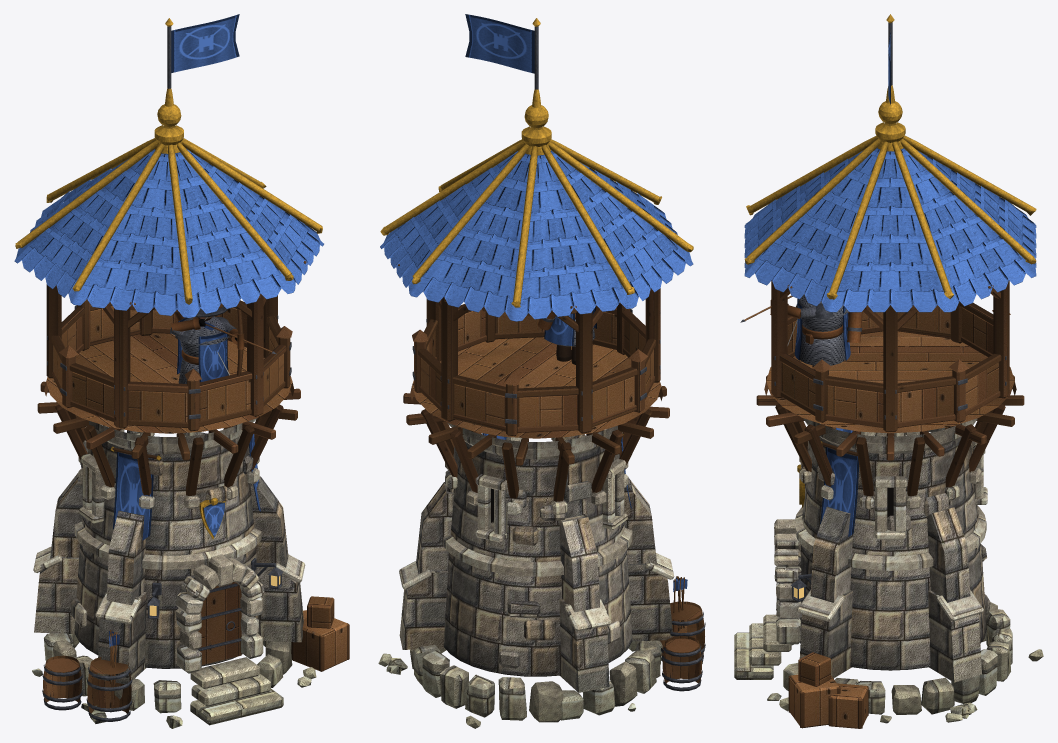
Rendered from arrow_tower.glb.
3 renders of one model, left to right at view 1: azimuth 30°, elevation 25°; view 2: azimuth 150°, elevation 25°; view 3: azimuth 270°, elevation 25°, orthographic.
Visible parts, largest first — view 1: Tower, Archer, Banner; view 2: Tower, Banner, Archer; view 3: Tower, Archer.
Boxes of the visible parts, left/top/right/bottom form: Tower: left=14, top=18, right=349, bottom=728; Archer: left=170, top=300, right=276, bottom=383; Banner: left=171, top=14, right=239, bottom=72; Tower: left=378, top=18, right=705, bottom=728; Banner: left=465, top=14, right=534, bottom=73; Archer: left=538, top=306, right=596, bottom=364; Tower: left=734, top=14, right=1043, bottom=728; Archer: left=740, top=294, right=862, bottom=374.
Bounding box in the file's own units: 3.46 × 7.66 × 3.29.
10 materials, 10 textured.
